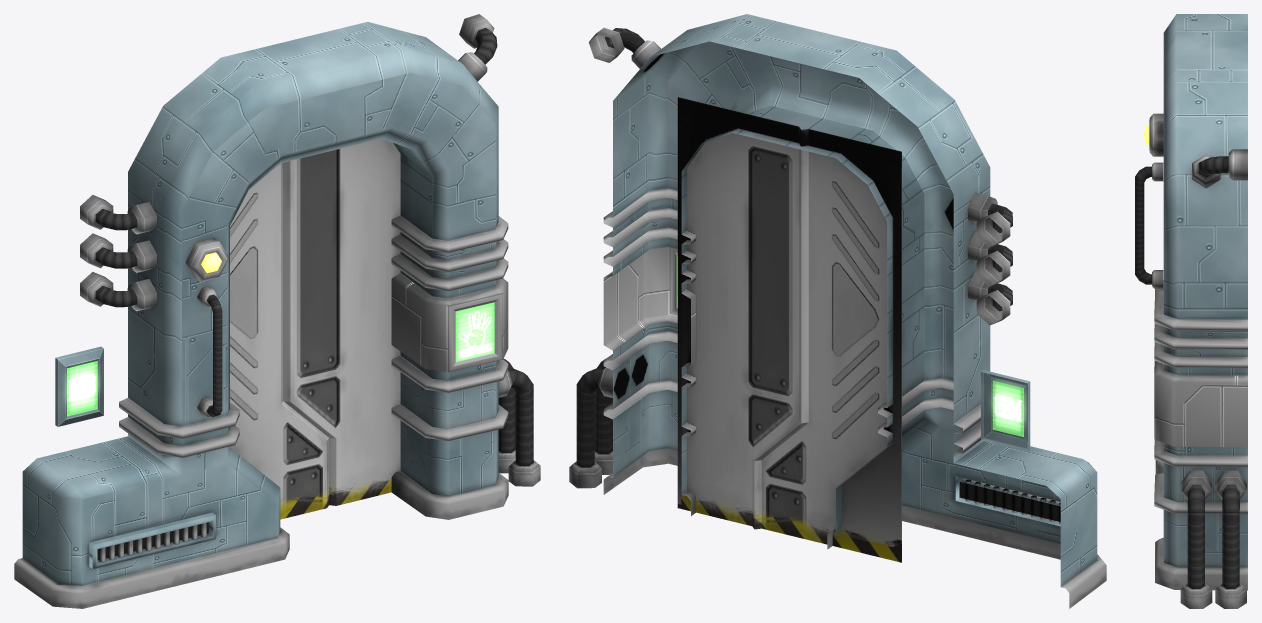
File: space_door.glb
The picture shows the model from 3 angles, left to right: view 1: azimuth 30°, elevation 25°; view 2: azimuth 150°, elevation 25°; view 3: azimuth 270°, elevation 25°; orthographic projection. The views are drawn at different scales.
Visible parts, largest first — view 1: Space_Door1_Door1_0; view 2: Space_Door1_Door1_0; view 3: Space_Door1_Door1_0.
Part boxes in pixels (box(x1,y1,x2,y2)): Space_Door1_Door1_0: box(14, 14, 540, 608); Space_Door1_Door1_0: box(569, 14, 1106, 608); Space_Door1_Door1_0: box(1135, 14, 1247, 608).
Bounding box in the file's own units: 2.13 × 1.93 × 0.432.
1 material, 1 textured.
